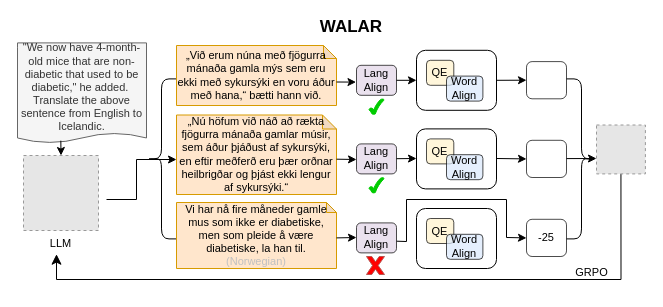
Image size: 663x307. Some labels were removed from this diagram. Grey dashed boxes stand in for pictures. The shapes that lost their labels are listed below. From the top down, each one's centre as x and y in pixels, then its label:
the point at 546,80: -5 + 25 x 0.8
the point at 546,158: -4 + 25 x 0.6
